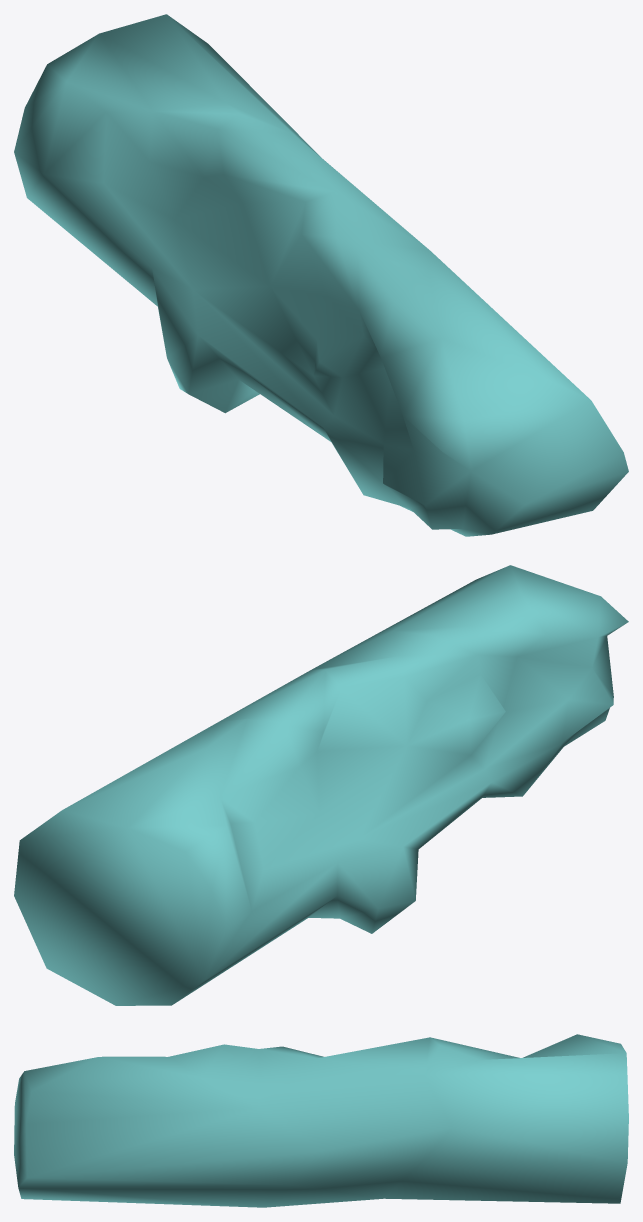
File: burnt-log.fbx
3 views of the same model, one above another, from view 1: azimuth 30°, elevation 25°; view 2: azimuth 150°, elevation 25°; view 3: azimuth 270°, elevation 25° (orthographic). The views are drawn at different scales.
Parts seen in each view (by area): view 1: burnt-log; view 2: burnt-log; view 3: burnt-log.
Part boxes in pixels (x1,y1,x2,y2): burnt-log: [14, 14, 628, 536]; burnt-log: [14, 565, 628, 1005]; burnt-log: [14, 1034, 628, 1207].
Bounding box in the file's own units: 0.3008 × 0.2841 × 0.9966.
